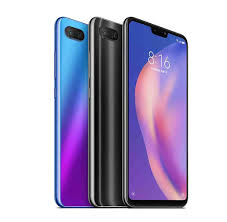mi: (121, 15, 189, 210)
